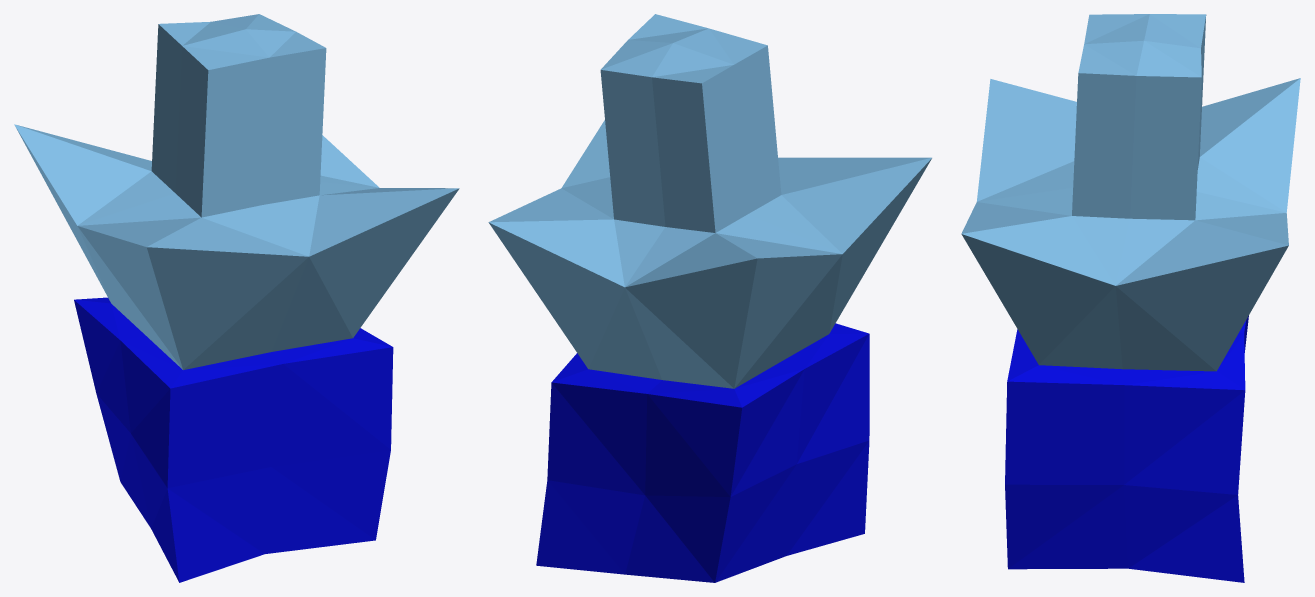
Rendered from MagicBlocker.fbx.
The picture shows the model from 3 angles, left to right: view 1: azimuth 30°, elevation 25°; view 2: azimuth 150°, elevation 25°; view 3: azimuth 270°, elevation 25°; orthographic projection. The views are drawn at different scales.
Parts seen in each view (by area): view 1: Cube; view 2: Cube; view 3: Cube.
Boxes of the visible parts, box(x1,y1,x2,y2) form: Cube: box(14, 14, 459, 582); Cube: box(488, 14, 931, 582); Cube: box(961, 14, 1300, 582).
Size of the model in its own units: 306 by 473 by 290.
